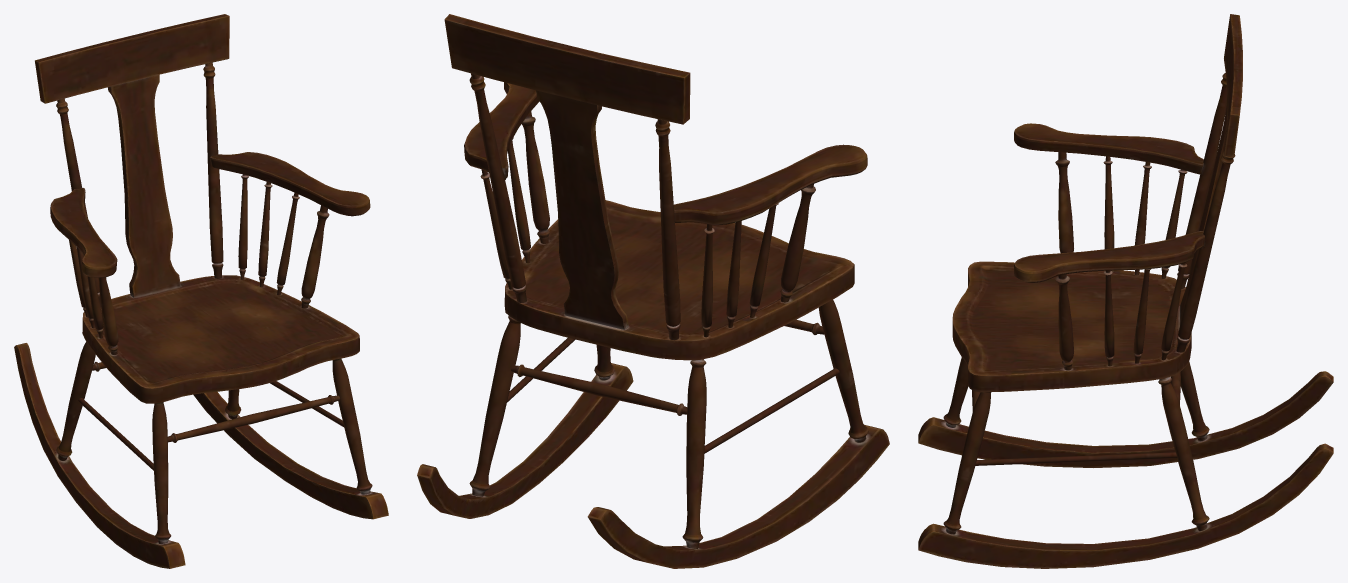
The model's file is Rockingchair_01.0b2f37b7.glb.
3 renders of one model, left to right at view 1: azimuth 30°, elevation 25°; view 2: azimuth 150°, elevation 25°; view 3: azimuth 270°, elevation 25°, orthographic. The views are drawn at different scales.
Visible parts, largest first — view 1: Rockingchair_01; view 2: Rockingchair_01; view 3: Rockingchair_01.
Part boxes in pixels (x1,y1,x2,y2): Rockingchair_01: [14, 14, 388, 568]; Rockingchair_01: [417, 14, 889, 568]; Rockingchair_01: [918, 14, 1333, 568].
Bounding box in the file's own units: 0.6117 × 0.8594 × 0.72.
1 material, 1 textured.
